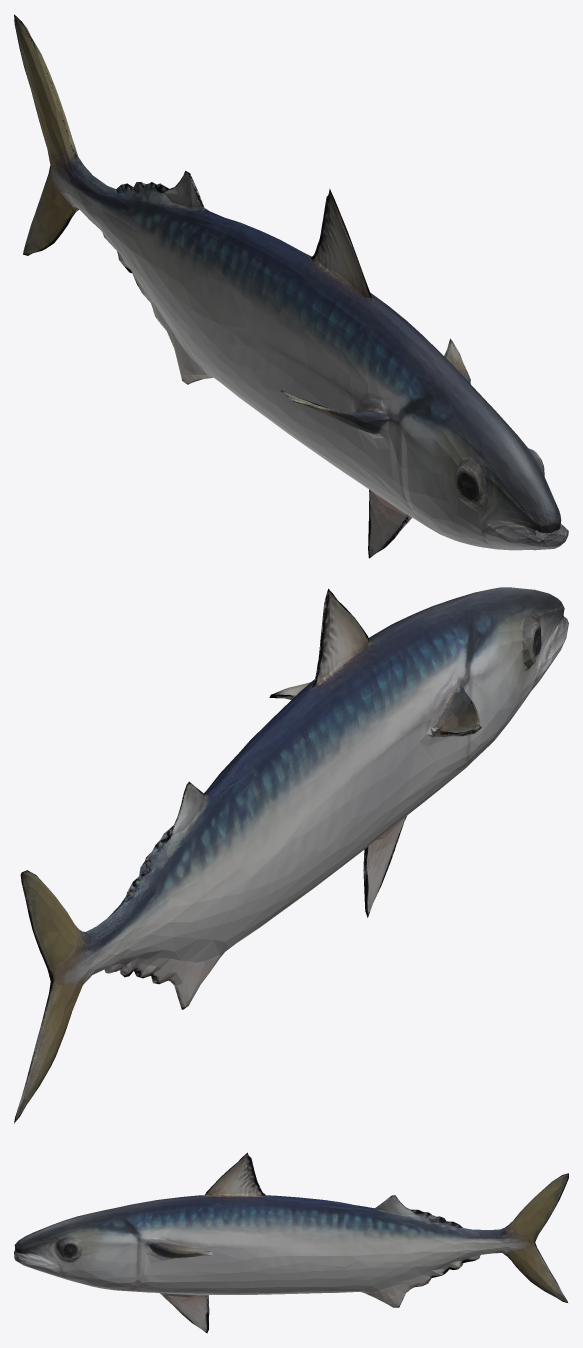
Rendered from fish.glb.
The picture shows the model from 3 angles, top to bottom: view 1: azimuth 30°, elevation 25°; view 2: azimuth 150°, elevation 25°; view 3: azimuth 270°, elevation 25°; orthographic projection. The views are drawn at different scales.
Visible parts, largest first — view 1: geometry_0; view 2: geometry_0; view 3: geometry_0.
Boxes of the visible parts, x1,y1,x2,y2 form: geometry_0: (14, 14, 568, 558); geometry_0: (14, 587, 568, 1123); geometry_0: (14, 1152, 568, 1333).
Size of the model in its own units: 0.2025 by 0.3588 by 0.9969.
1 material, 1 textured.
